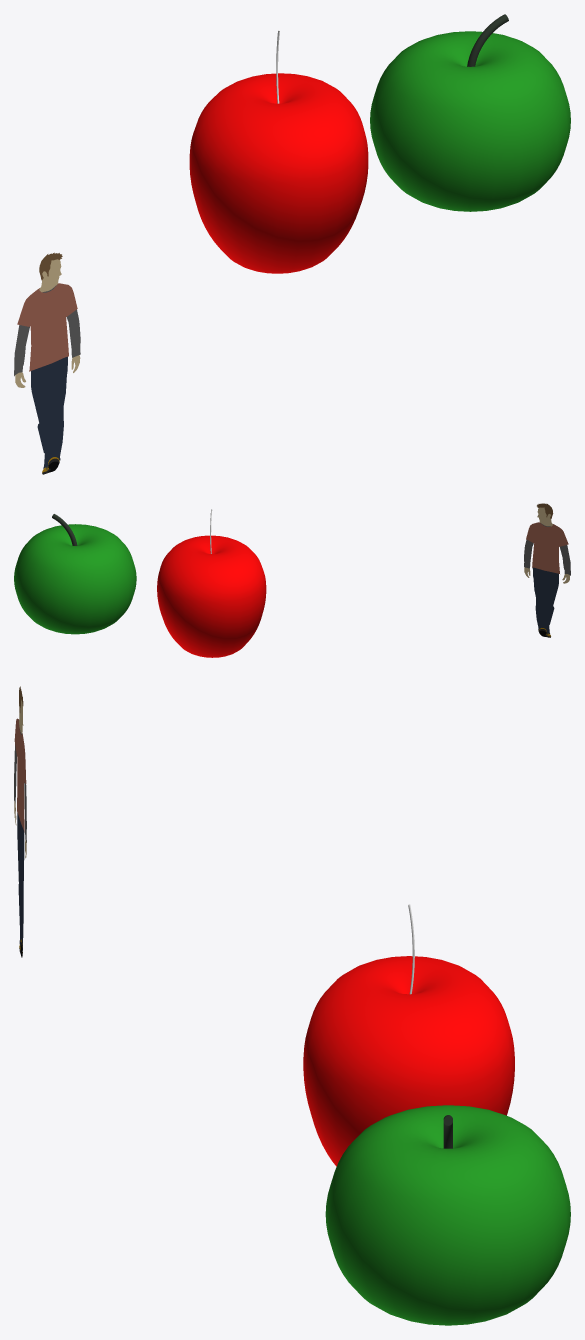
Rendered from fruits.fbx.
The picture shows the model from 3 angles, top to bottom: view 1: azimuth 30°, elevation 25°; view 2: azimuth 150°, elevation 25°; view 3: azimuth 270°, elevation 25°; orthographic projection. The views are drawn at different scales.
Parts seen in each view (by area): view 1: Group2, Group1, Bryce1; view 2: Group2, Group1, Bryce1; view 3: Group2, Group1, Bryce1.
Boxes of the visible parts, x1,y1,x2,y2 form: Group2: (370, 14, 570, 211); Group1: (189, 30, 368, 273); Bryce1: (14, 252, 80, 474); Group2: (14, 514, 136, 634); Group1: (157, 509, 266, 657); Bryce1: (524, 503, 570, 637); Group2: (325, 1105, 570, 1325); Group1: (303, 904, 514, 1166); Bryce1: (14, 686, 26, 957).
Size of the model in its own units: 245 by 74.89 by 134.
